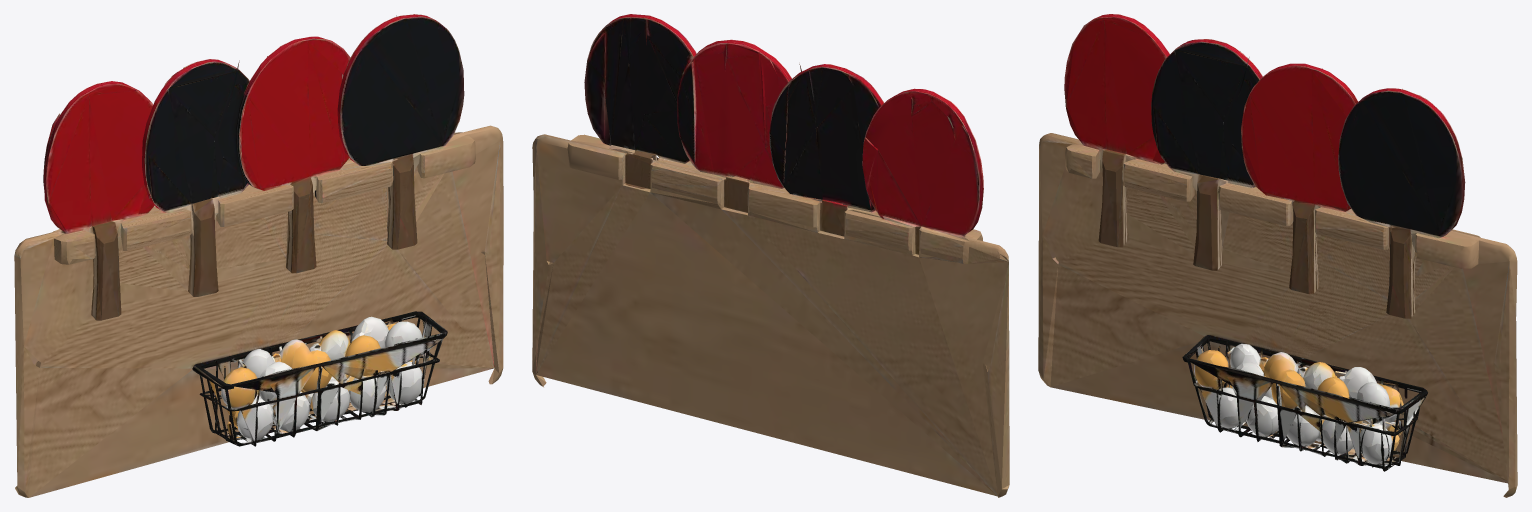
File: paddle_rack.glb
3 views of the same model, side by side, from view 1: azimuth 30°, elevation 25°; view 2: azimuth 150°, elevation 25°; view 3: azimuth 330°, elevation 25° (orthographic). The views are drawn at different scales.
Visible parts, largest first — view 1: 0; view 2: 0; view 3: 0.
Part boxes in pixels (x1=…): 0: x1=14, y1=14, x2=503, y2=497; 0: x1=532, y1=14, x2=1009, y2=497; 0: x1=1038, y1=14, x2=1517, y2=497.
Bounding box in the file's own units: 0.9 × 0.7 × 0.12.
Materials: 1 (1 with a texture image).
